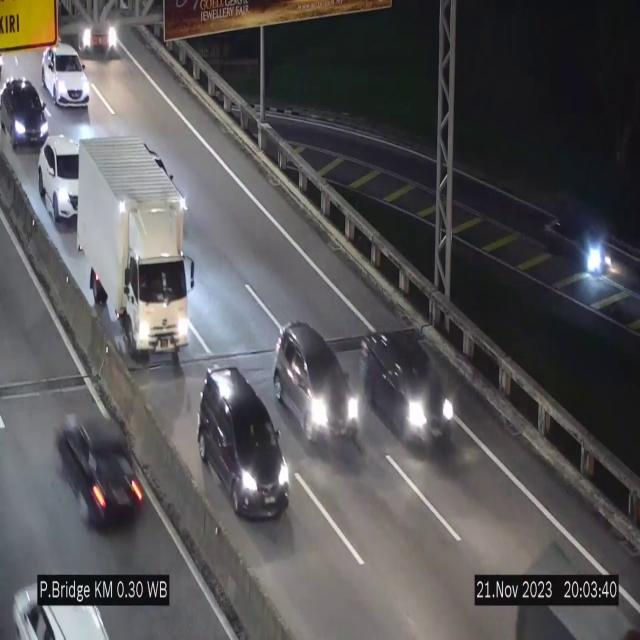Car: (198, 367, 290, 518), (359, 328, 455, 446), (271, 323, 362, 447), (38, 128, 78, 224), (0, 76, 49, 150), (43, 41, 89, 107)
Truck: (76, 136, 200, 364)
